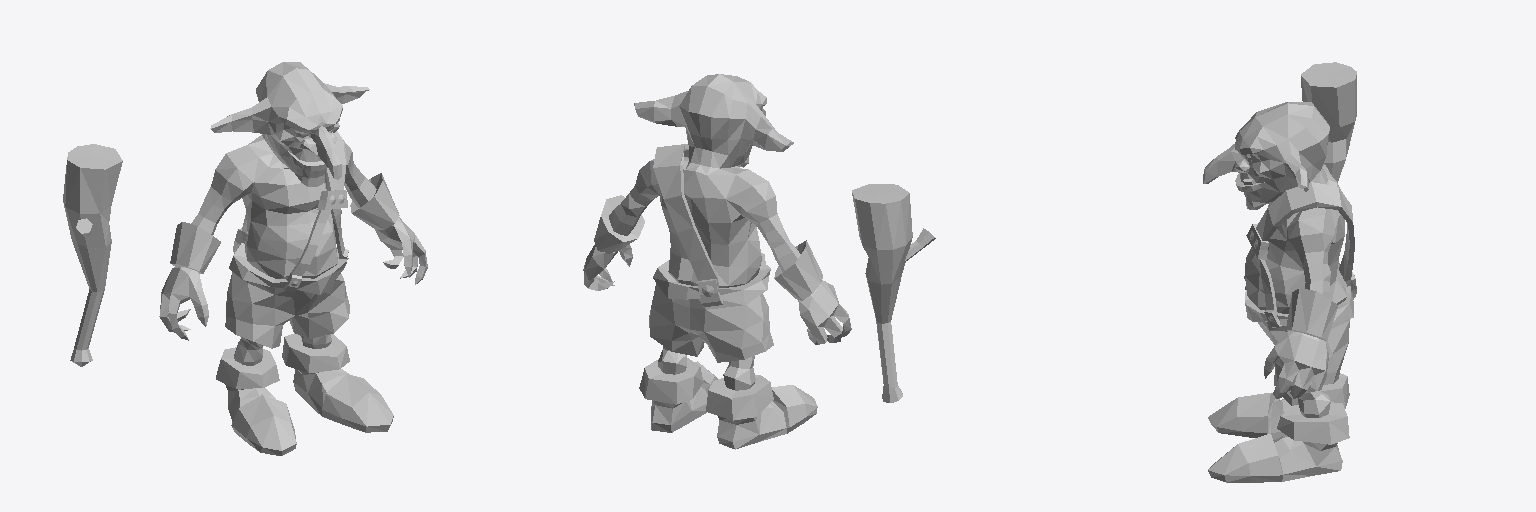
The model's file is SuperGoblin.obj.
3 renders of one model, left to right at view 1: azimuth 30°, elevation 25°; view 2: azimuth 150°, elevation 25°; view 3: azimuth 270°, elevation 25°, orthographic.
Parts seen in each view (by area): view 1: mesh0; view 2: mesh0; view 3: mesh0.
Part boxes in pixels (left/top/right/bottom): mesh0: left=63, top=62, right=427, bottom=455; mesh0: left=583, top=74, right=935, bottom=449; mesh0: left=1203, top=62, right=1356, bottom=482.
Size of the model in its own units: 26.28 by 25.17 by 10.11.